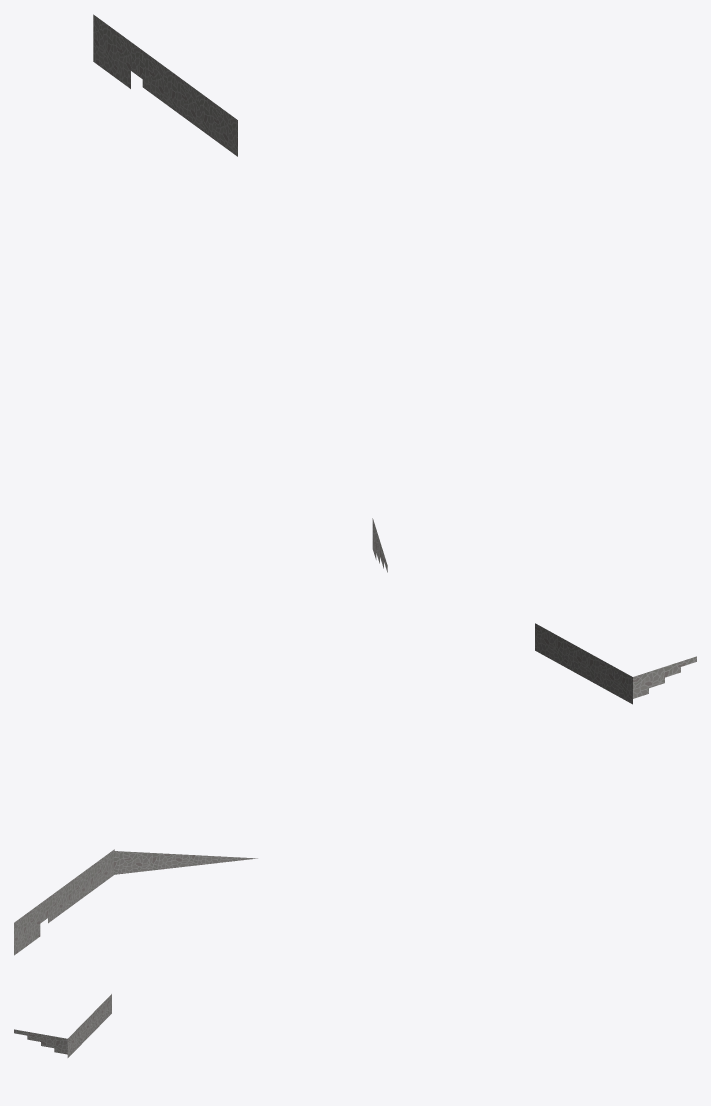
The model's file is kd_stage_135ebf_0_12_bounded.glb.
3 views of the same model, one above another, from view 1: azimuth 30°, elevation 25°; view 2: azimuth 150°, elevation 25°; view 3: azimuth 270°, elevation 25° (orthographic). The views are drawn at different scales.
Visible parts, largest first — view 1: kd_stage_135ebf_0_12_bounded; view 2: kd_stage_135ebf_0_12_bounded; view 3: kd_stage_135ebf_0_12_bounded.
Boxes of the visible parts, x1,y1,x2,y2 form: kd_stage_135ebf_0_12_bounded: [93, 14, 387, 572]; kd_stage_135ebf_0_12_bounded: [14, 623, 696, 955]; kd_stage_135ebf_0_12_bounded: [14, 994, 111, 1057].
Bounding box in the file's own units: 6.84 × 0.9008 × 23.5.
Materials: 1 (1 with a texture image).
